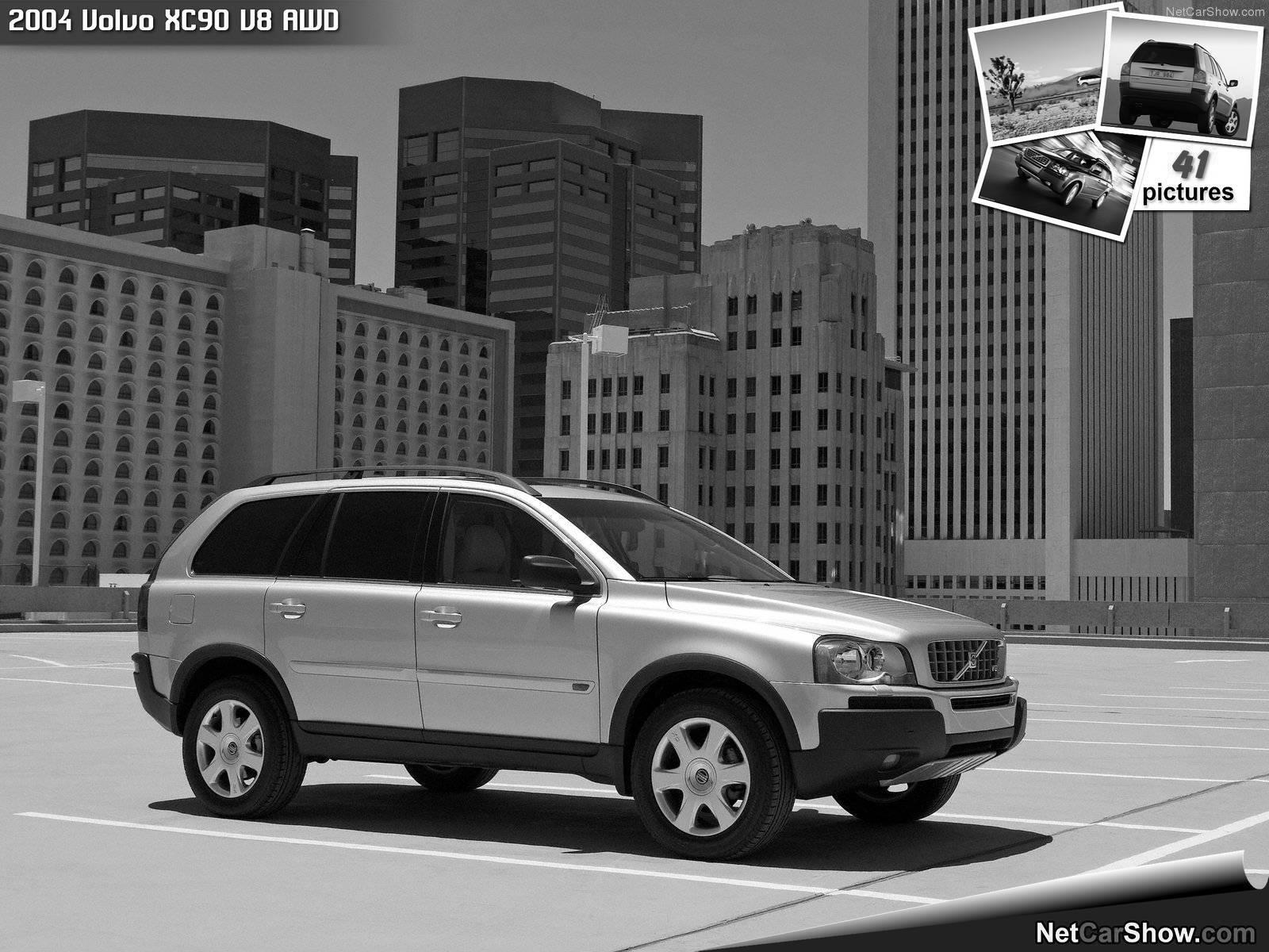car: (125, 470, 1031, 862)
